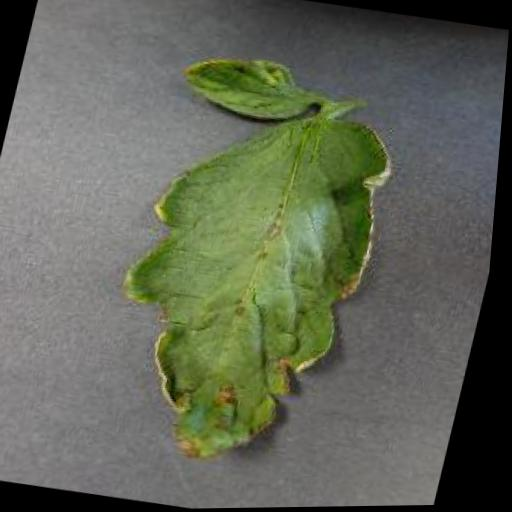Bacterial Spot: (84, 38, 419, 484)
